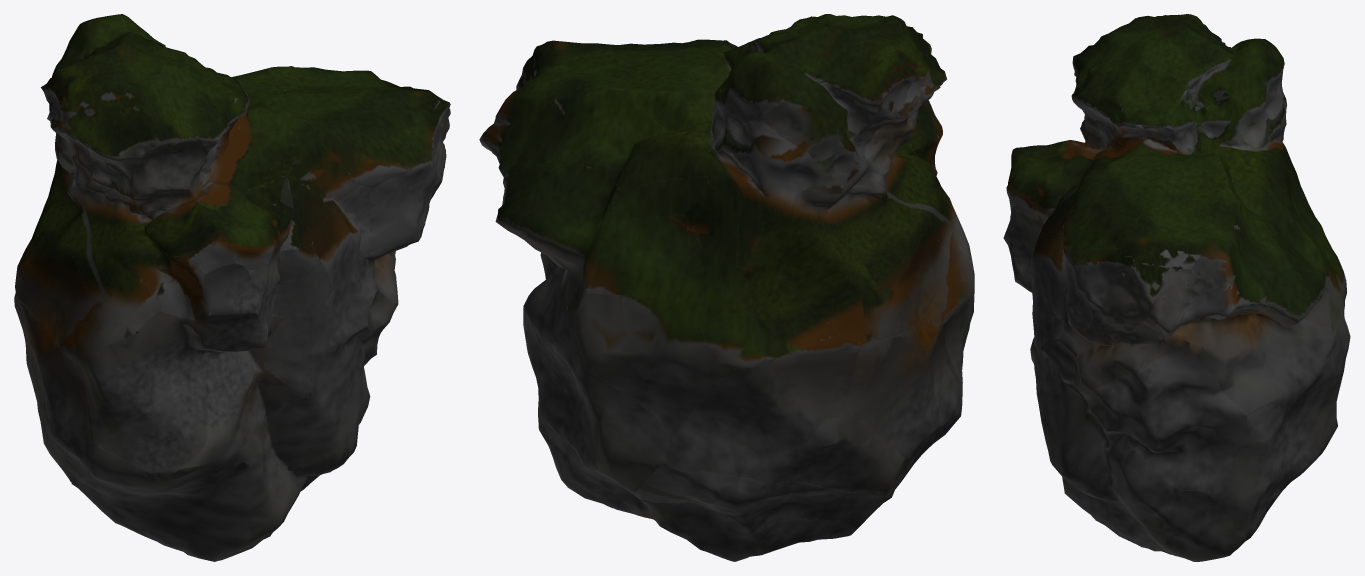
Rendered from generic_island_4.fbx.
3 renders of one model, left to right at view 1: azimuth 30°, elevation 25°; view 2: azimuth 150°, elevation 25°; view 3: azimuth 270°, elevation 25°, orthographic. The views are drawn at different scales.
Visible parts, largest first — view 1: rock_cell.095, rock_cell.121, rock_cell.138, rock_cell.077, rock_cell.007, rock_cell.186, rock_cell.085, rock_cell.029, rock_cell.021, rock_cell.129, rock_cell.181, rock_cell.066 (+36 smaller); view 2: rock_cell.012, rock_cell.083, rock_cell.197, rock_cell.129, rock_cell.035, rock_cell.055, rock_cell.066, rock_cell.167, rock_cell.119, rock_cell.047, rock_cell.029, rock_cell.105 (+27 smaller); view 3: rock_cell.018, rock_cell.190, rock_cell.066, rock_cell.037, rock_cell.035, rock_cell.105, rock_cell.079, rock_cell.001, rock_cell.169, rock_cell.093, rock_cell.064, rock_cell.167 (+32 smaller).
Part boxes in pixels (x1,y1,x2,y2): rock_cell.095: [70, 310, 226, 446]; rock_cell.121: [74, 441, 252, 561]; rock_cell.138: [59, 71, 173, 185]; rock_cell.077: [125, 110, 216, 256]; rock_cell.007: [215, 397, 348, 511]; rock_cell.186: [70, 185, 150, 312]; rock_cell.085: [99, 369, 209, 471]; rock_cell.029: [15, 226, 92, 357]; rock_cell.021: [133, 251, 256, 330]; rock_cell.129: [14, 293, 90, 461]; rock_cell.181: [200, 129, 288, 204]; rock_cell.066: [69, 14, 189, 75]; rock_cell.012: [661, 335, 859, 477]; rock_cell.083: [572, 293, 729, 438]; rock_cell.197: [758, 41, 916, 175]; rock_cell.129: [845, 321, 958, 459]; rock_cell.035: [495, 159, 618, 317]; rock_cell.055: [691, 265, 838, 369]; rock_cell.066: [720, 14, 891, 126]; rock_cell.167: [549, 318, 668, 493]; rock_cell.119: [827, 161, 894, 342]; rock_cell.047: [587, 215, 704, 298]; rock_cell.029: [870, 216, 958, 337]; rock_cell.105: [495, 78, 610, 177]; rock_cell.018: [1093, 348, 1250, 490]; rock_cell.190: [1187, 308, 1336, 419]; rock_cell.066: [1138, 15, 1284, 107]; rock_cell.037: [1206, 426, 1317, 540]; rock_cell.035: [1241, 220, 1341, 329]; rock_cell.105: [1191, 187, 1272, 306]; rock_cell.079: [1141, 490, 1246, 561]; rock_cell.001: [1116, 200, 1205, 269]; rock_cell.169: [1100, 155, 1192, 248]; rock_cell.093: [1066, 429, 1178, 521]; rock_cell.064: [1225, 100, 1293, 222]; rock_cell.167: [1280, 328, 1346, 457].
Bounding box in the file's own units: 891 × 1111 × 728.
Materials: 1 (1 with a texture image).
